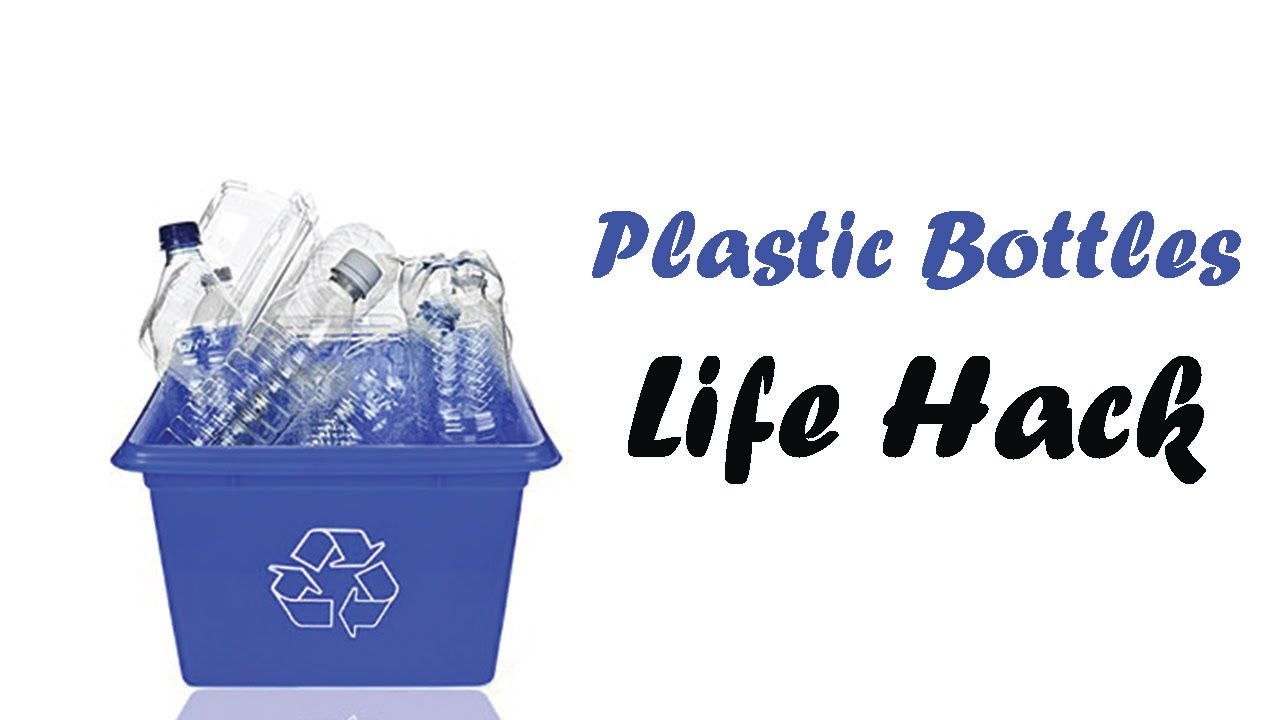plastic_bottle: (332, 106, 575, 673), (132, 104, 386, 532), (67, 185, 349, 529), (203, 218, 432, 585), (262, 151, 415, 647), (173, 246, 333, 574)
